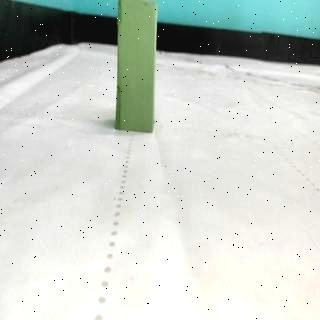greenbox: (116, 0, 156, 132)
